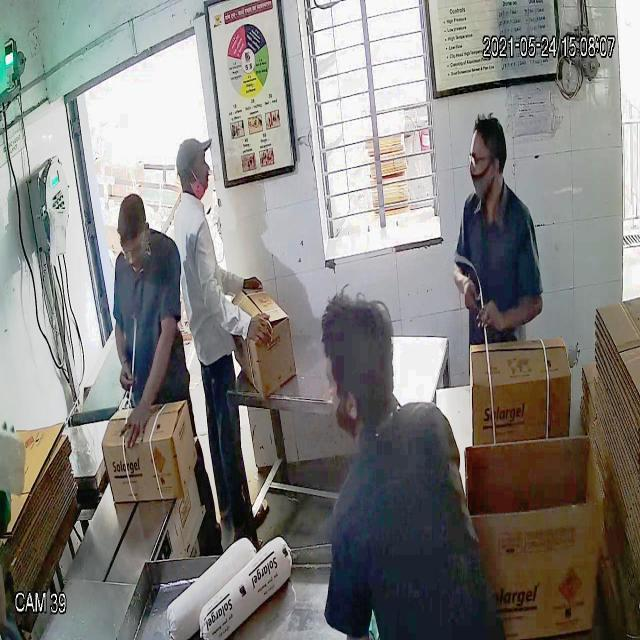glasses: (467, 143, 505, 176)
